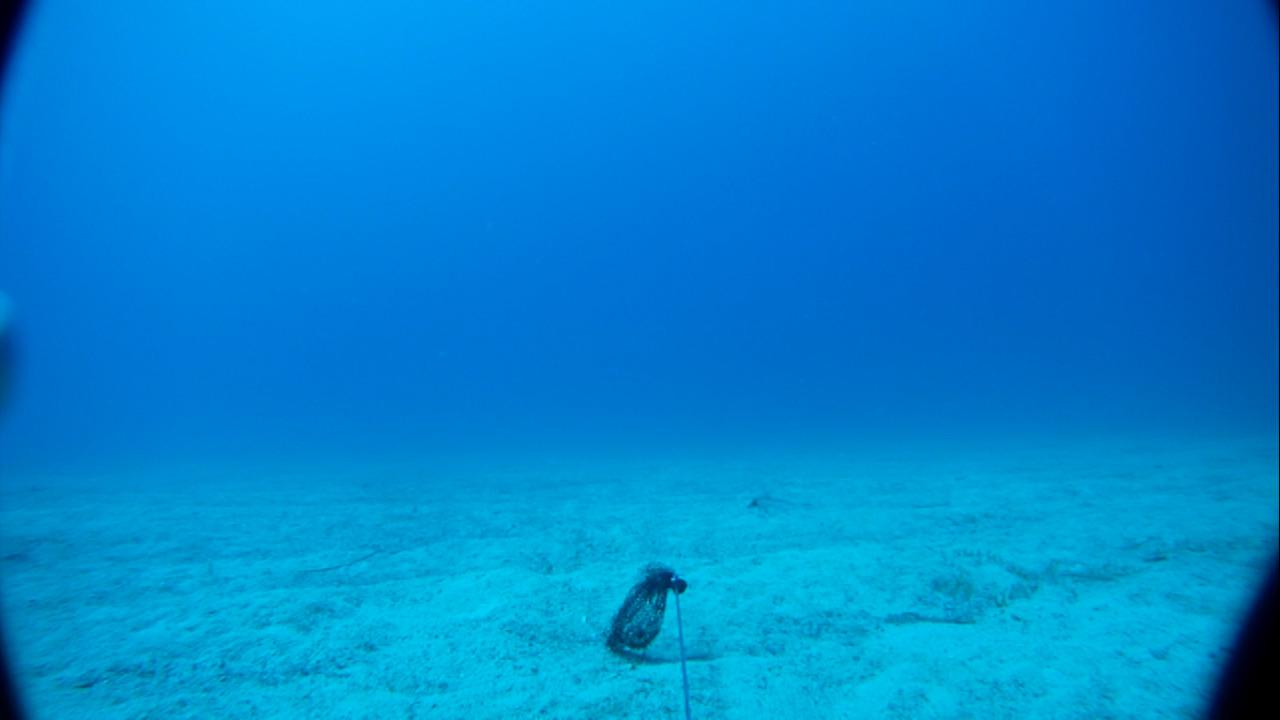dactylopterus: (738, 485, 806, 519)
